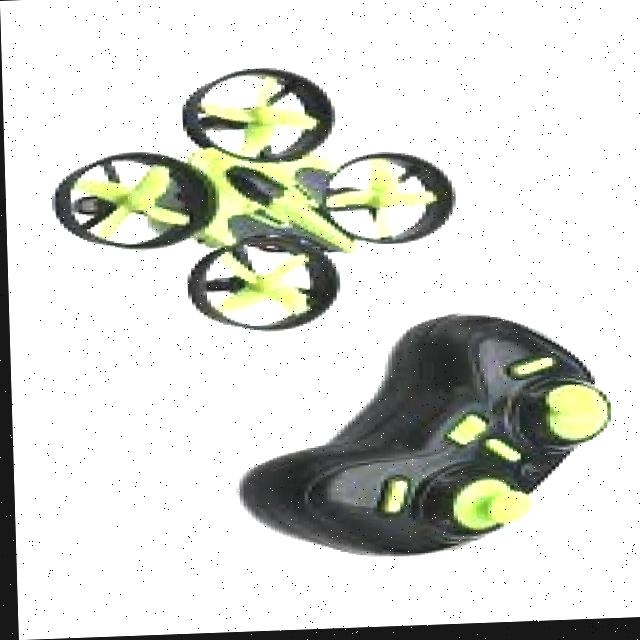drone: (34, 58, 468, 348)
